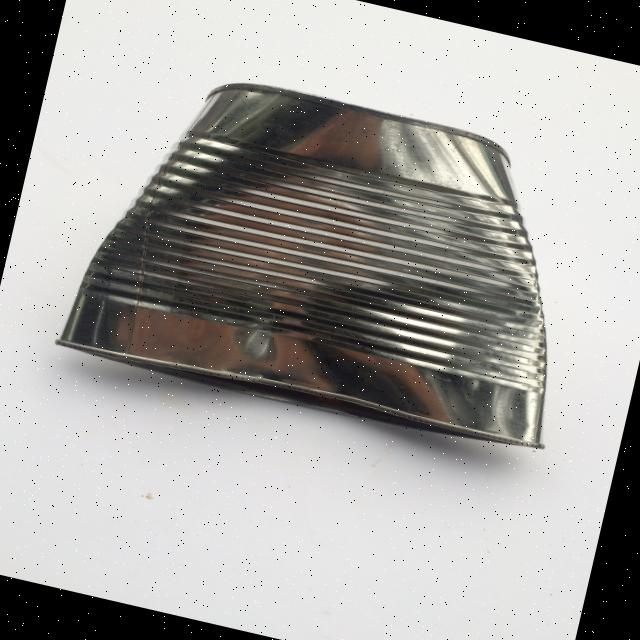metal: (53, 49, 610, 462)
